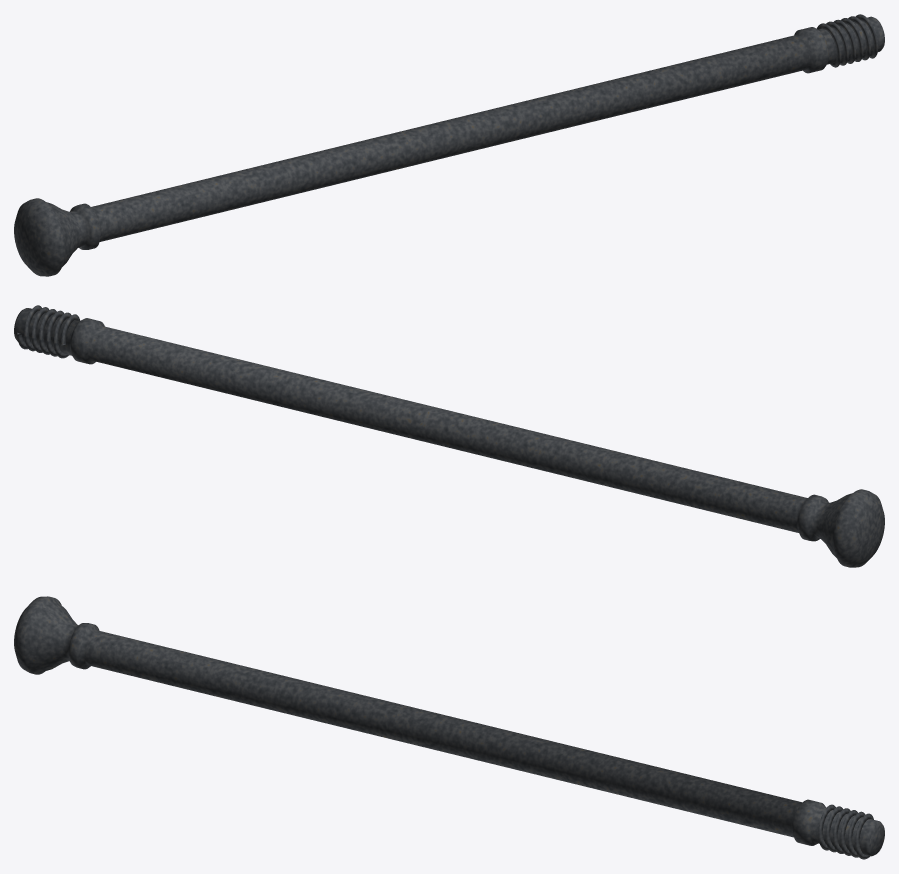
The model's file is metal-rod.fbx.
3 renders of one model, top to bottom at view 1: azimuth 30°, elevation 25°; view 2: azimuth 150°, elevation 25°; view 3: azimuth 330°, elevation 25°, orthographic.
Parts seen in each view (by area): view 1: metal-rod; view 2: metal-rod; view 3: metal-rod.
Part boxes in pixels (left/top/right/bottom): metal-rod: left=14, top=14, right=884, bottom=276; metal-rod: left=14, top=305, right=884, bottom=567; metal-rod: left=14, top=596, right=884, bottom=859.
Size of the model in its own units: 120 by 9.6 by 9.6.
1 material, 1 textured.
